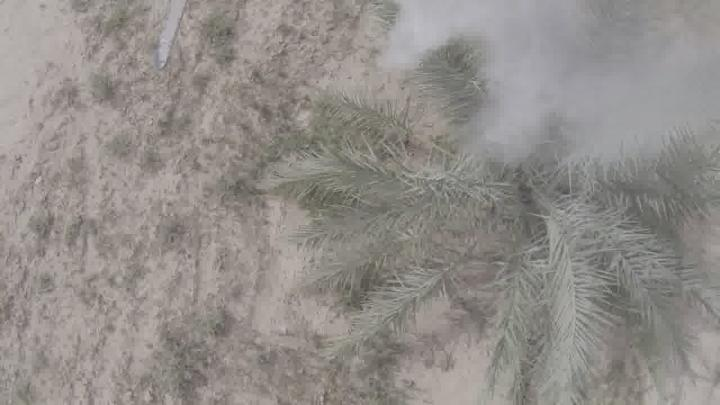Date-Palm-Crown: (369, 62, 671, 314)
